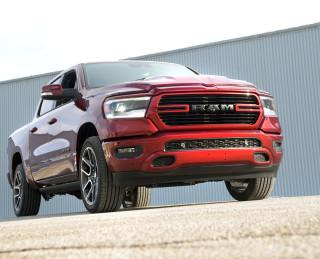ram: (188, 99, 237, 114)
